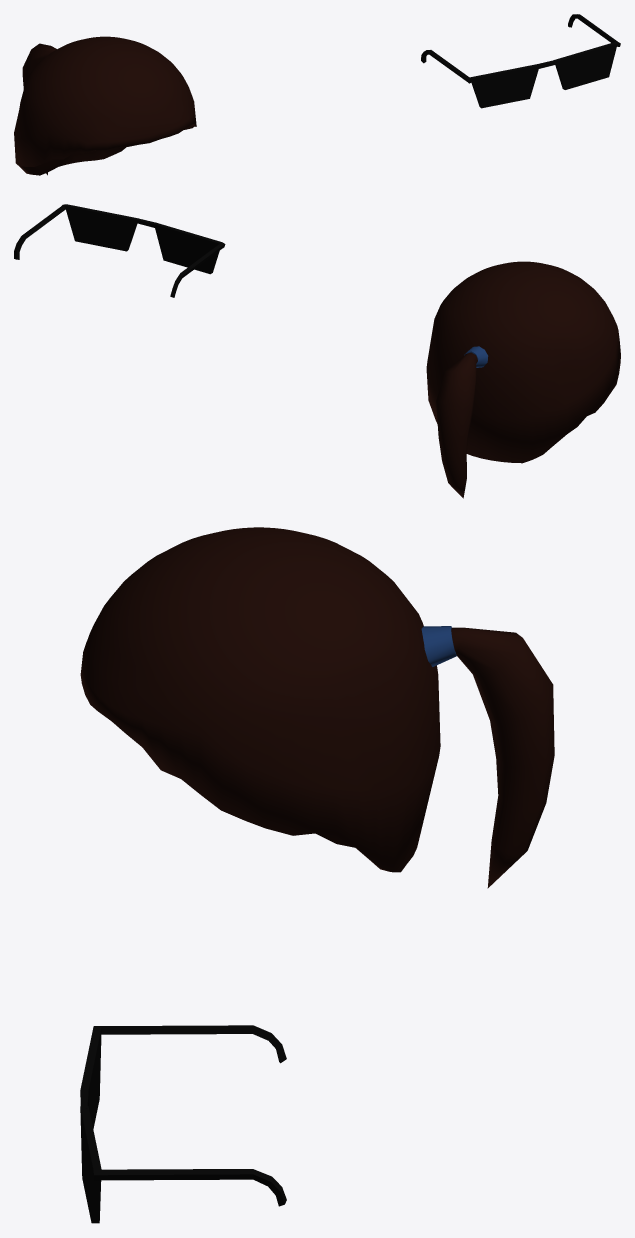
File: pelo_raquel.fbx
3 renders of one model, top to bottom at view 1: azimuth 30°, elevation 25°; view 2: azimuth 150°, elevation 25°; view 3: azimuth 270°, elevation 25°, orthographic. The views are drawn at different scales.
Parts seen in each view (by area): view 1: Sphere, Cube, Cube.001, Cone; view 2: Sphere, Cone, Cube.001, Cube; view 3: Sphere, Cone, Cube.001, Cube, Cylinder.
Part boxes in pixels (x1,y1,x2,y2): Sphere: (14,36,196,175); Cube: (421,50,557,108); Cube.001: (555,14,620,89); Cone: (22,43,56,175); Sphere: (426,261,620,463); Cone: (436,352,477,498); Cube.001: (14,204,137,259); Cube: (135,218,225,297); Sphere: (80,527,440,872); Cone: (451,627,554,888); Cube.001: (80,1106,286,1223); Cube: (80,1025,286,1128); Cylinder: (421,626,456,666).
Bounding box in the file's own units: 144 × 42.55 × 53.39.
